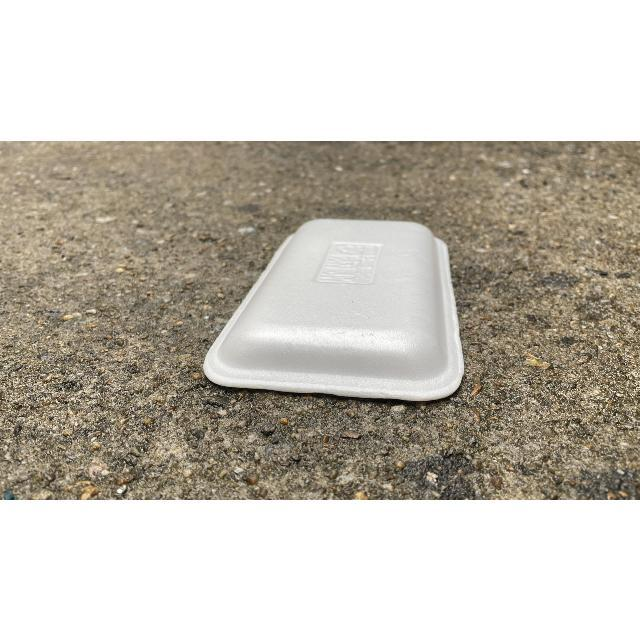Plastico descartable: (202, 219, 466, 406)
